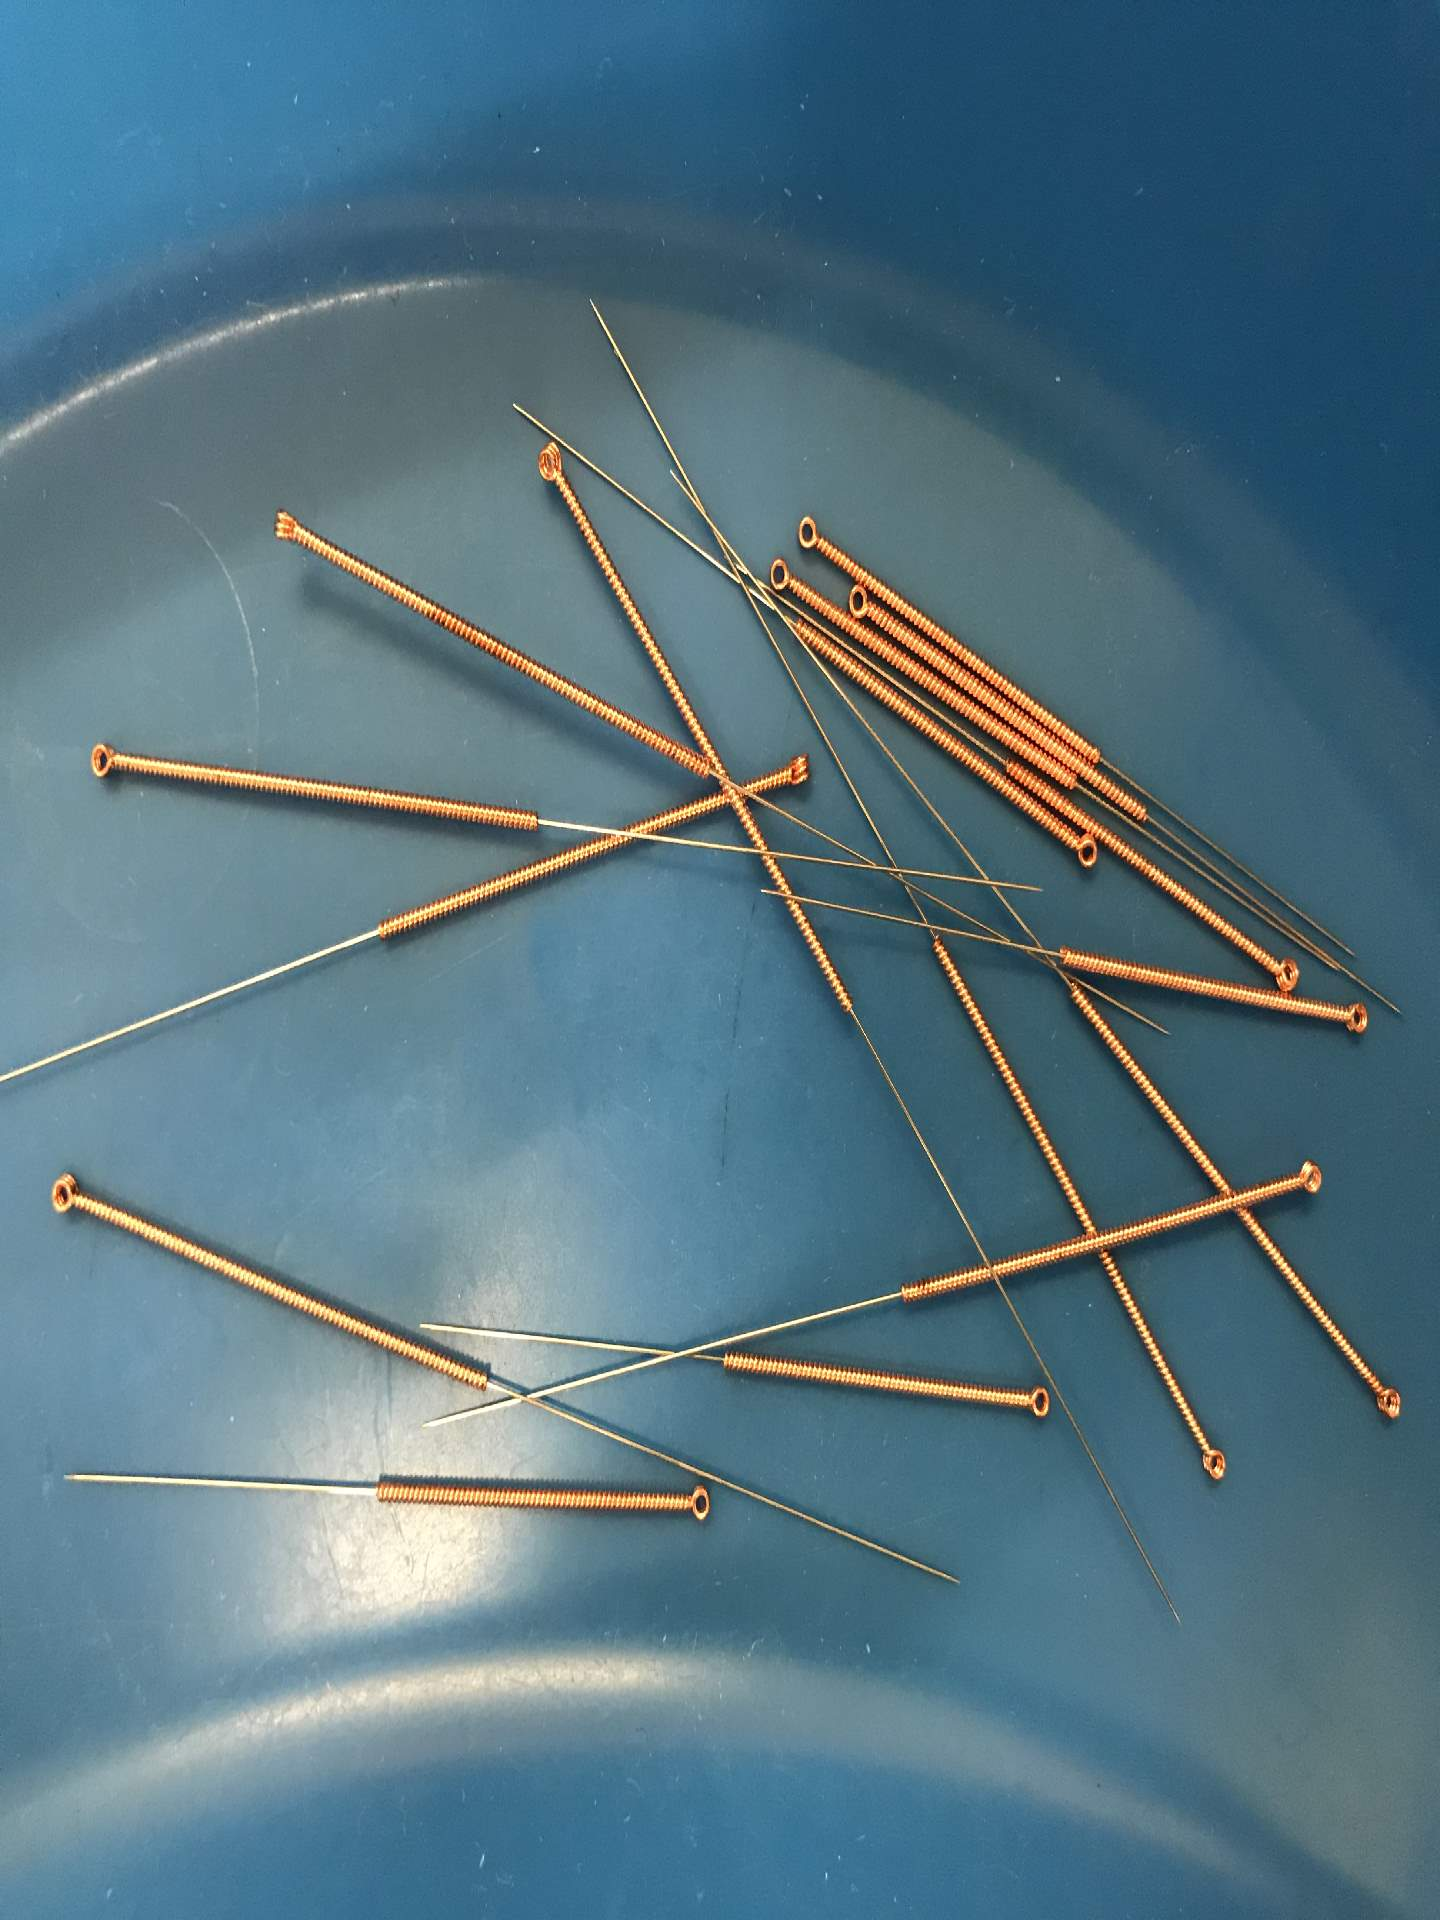needle: (253, 487, 337, 578), (70, 726, 141, 797), (29, 1163, 101, 1231), (519, 429, 582, 503), (1000, 1373, 1068, 1433), (756, 745, 821, 804), (1277, 1150, 1336, 1212), (667, 1476, 725, 1534), (1363, 1370, 1414, 1433), (787, 503, 839, 564), (1187, 1430, 1237, 1494), (1324, 990, 1381, 1043), (1249, 939, 1302, 993), (767, 547, 812, 596), (1057, 828, 1100, 874), (844, 581, 874, 624)
